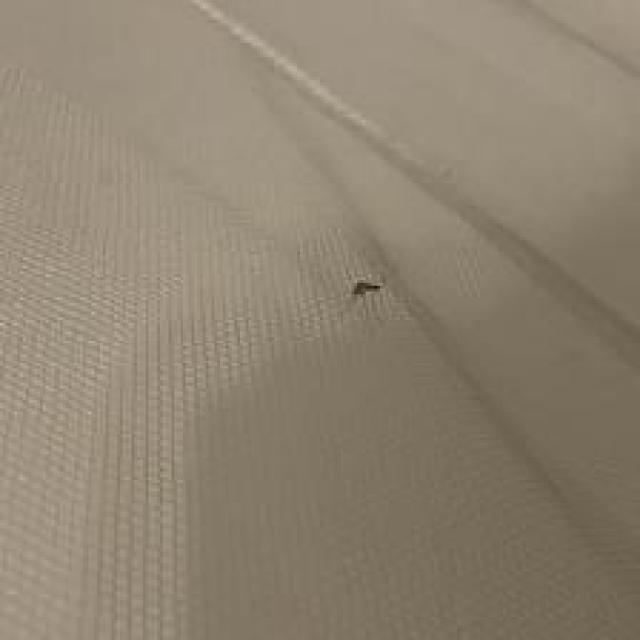Culex: (351, 280, 383, 300)
